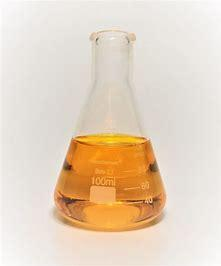Titrarion: (33, 19, 183, 232)
